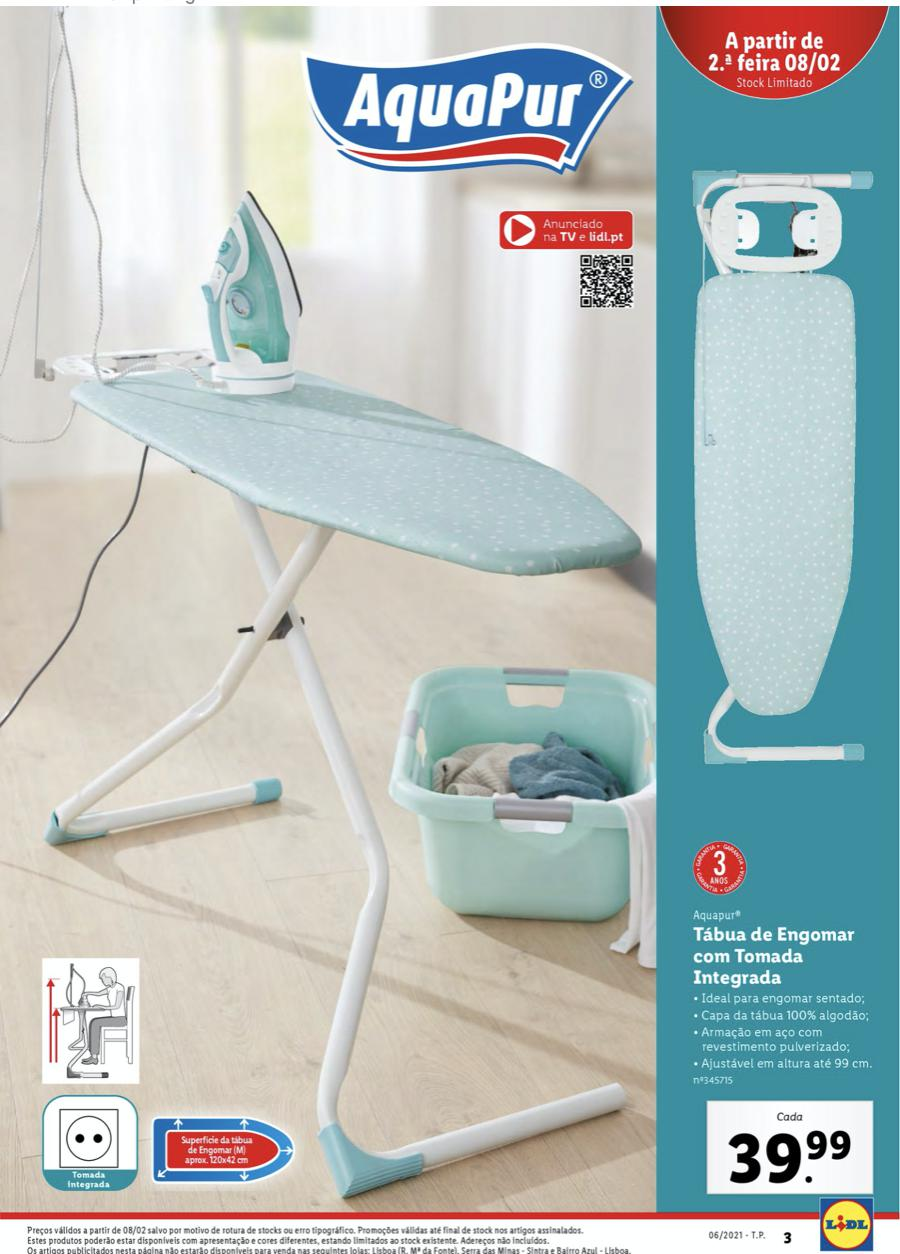name: (693, 924, 864, 996)
price: (725, 1126, 856, 1192)
product: (1, 28, 881, 1201)
